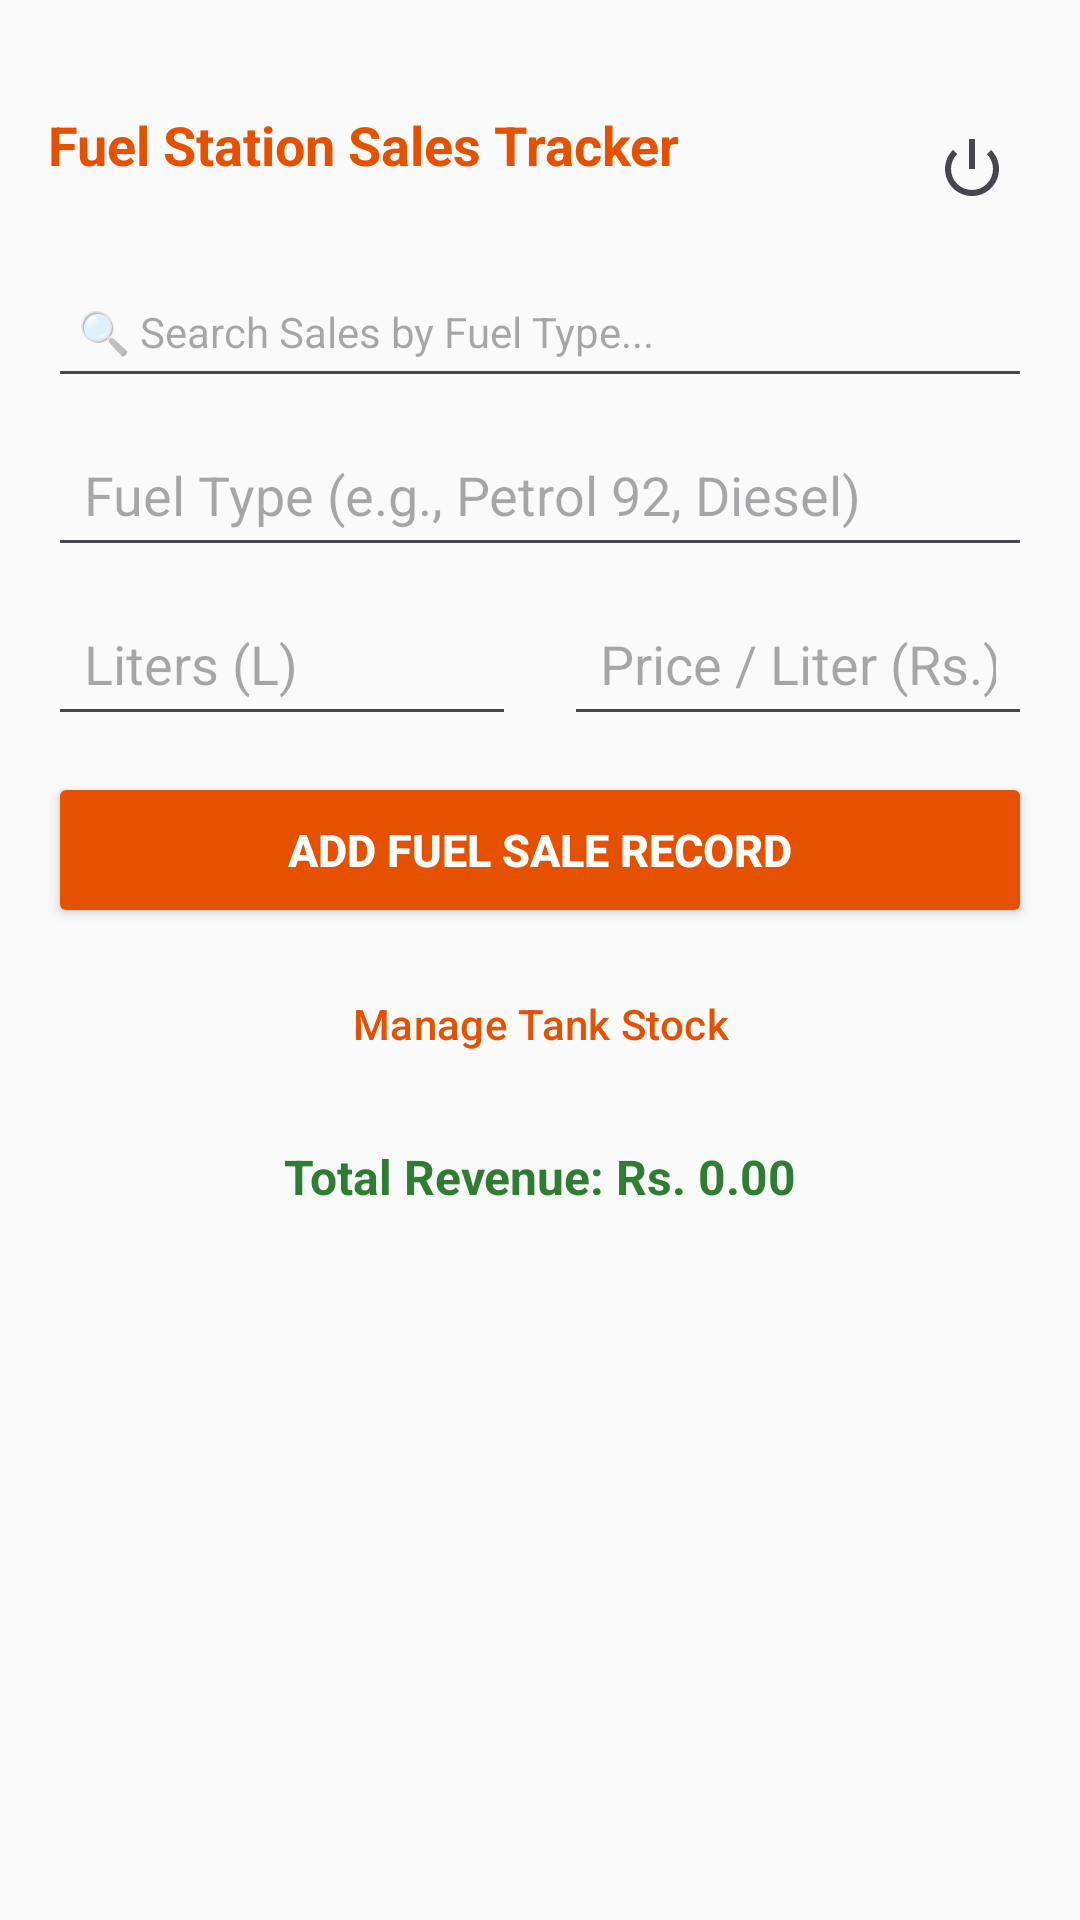

Named icons in this screenshot (1080*1920) and their centers, (x,y):
lock power off: (972,167)
